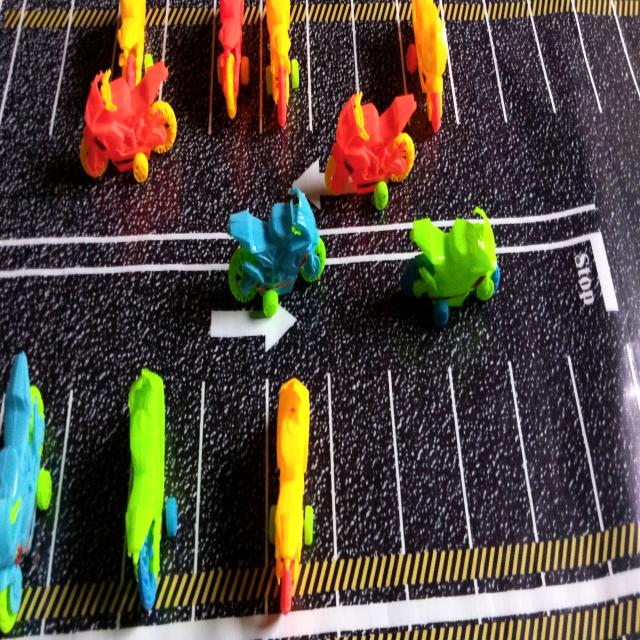bikes: (228, 188, 325, 316), (80, 54, 176, 182), (403, 207, 498, 325), (325, 92, 416, 210)
occupied: (0, 352, 73, 633), (125, 368, 204, 601), (265, 371, 335, 614), (208, 0, 265, 136), (403, 0, 454, 143), (260, 0, 312, 134), (117, 0, 166, 84)
slots: (512, 348, 599, 538), (52, 373, 130, 583), (455, 355, 533, 544), (391, 366, 469, 551), (572, 338, 640, 527), (198, 379, 265, 570), (333, 368, 400, 555), (534, 10, 602, 126), (580, 16, 640, 133), (2, 30, 64, 141), (493, 21, 554, 133), (53, 27, 115, 136), (309, 22, 356, 154), (450, 25, 504, 126), (165, 25, 211, 129), (356, 23, 403, 113)
